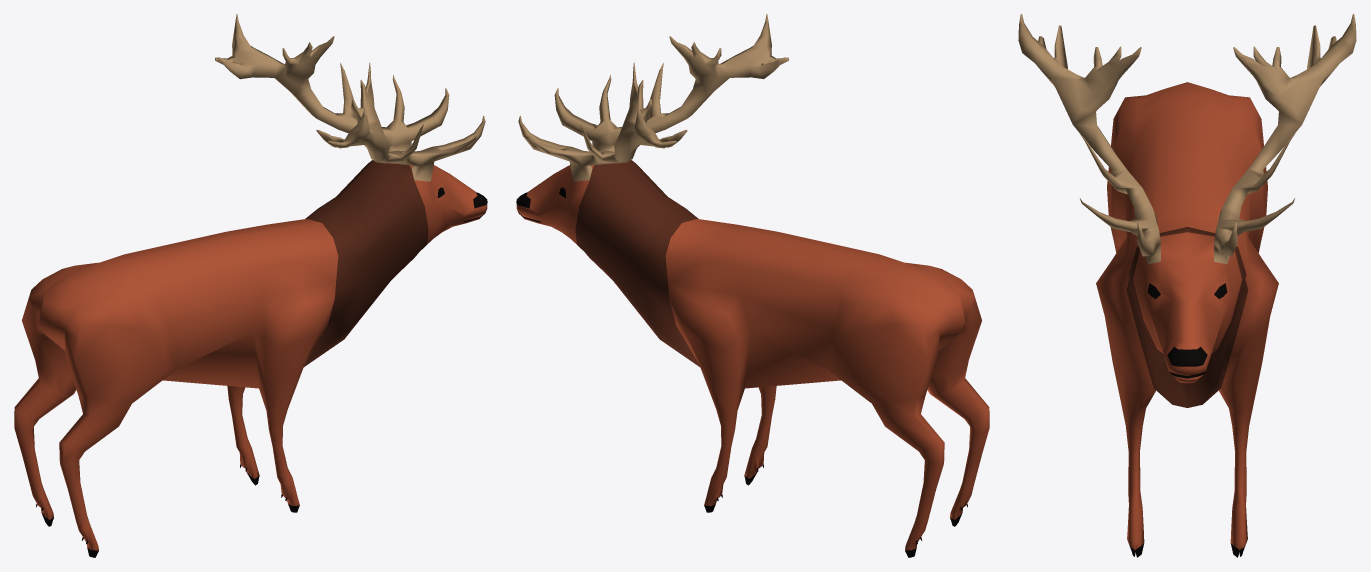
File: deer.glb
3 renders of one model, left to right at view 1: azimuth 30°, elevation 25°; view 2: azimuth 150°, elevation 25°; view 3: azimuth 270°, elevation 25°, orthographic. The views are drawn at different scales.
Visible parts, largest first — view 1: Cube.014; view 2: Cube.014; view 3: Cube.014.
Part boxes in pixels (x1=…): Cube.014: x1=14, y1=14, x2=487, y2=557; Cube.014: x1=516, y1=14, x2=989, y2=557; Cube.014: x1=1018, y1=14, x2=1356, y2=557.
Bounding box in the file's own units: 1.16 × 1.07 × 0.5846.
